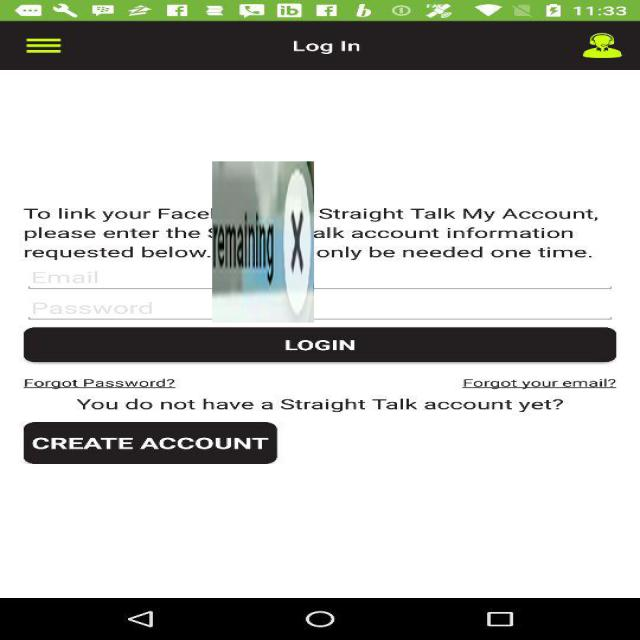misdirection: (212, 161, 314, 323)
